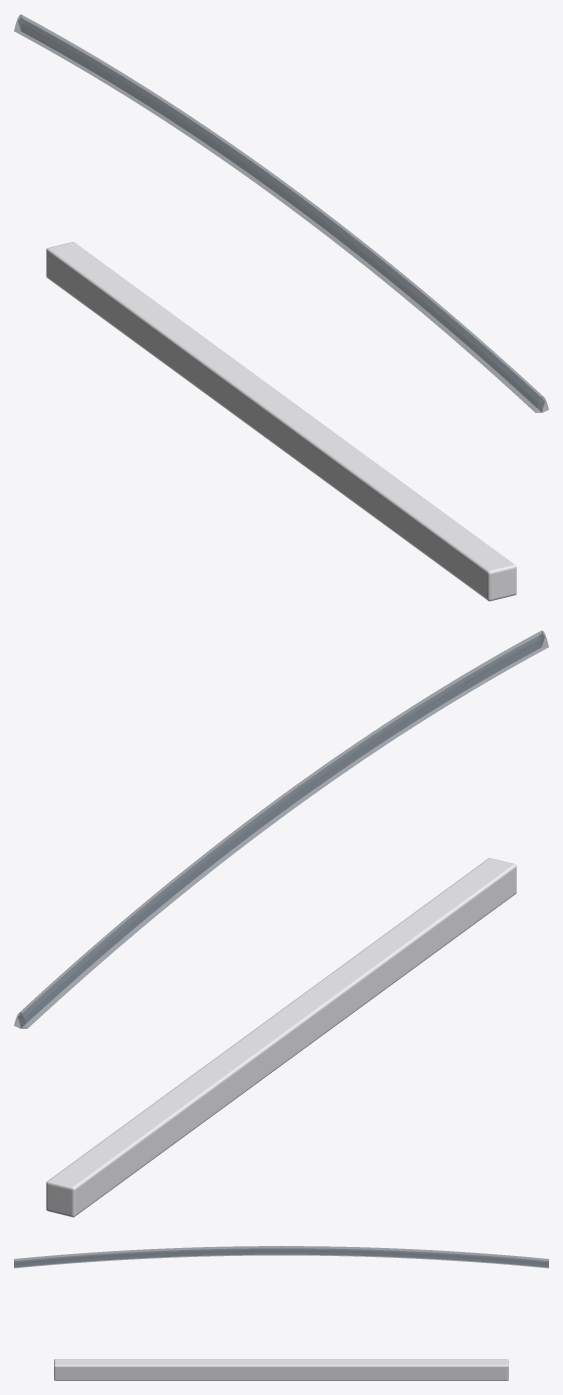
File: side_window_front_left.glb
3 renders of one model, top to bottom at view 1: azimuth 30°, elevation 25°; view 2: azimuth 150°, elevation 25°; view 3: azimuth 270°, elevation 25°, orthographic. The views are drawn at different scales.
Parts seen in each view (by area): view 1: REGULATOR_BRACKET_side_window_front_left.glb, GLASS_side_window_front_left.glb; view 2: REGULATOR_BRACKET_side_window_front_left.glb, GLASS_side_window_front_left.glb; view 3: REGULATOR_BRACKET_side_window_front_left.glb, GLASS_side_window_front_left.glb.
Part boxes in pixels (<box>): REGULATOR_BRACKET_side_window_front_left.glb: <box>46,242,516,601</box>; GLASS_side_window_front_left.glb: <box>14,14,548,412</box>; REGULATOR_BRACKET_side_window_front_left.glb: <box>46,858,516,1217</box>; GLASS_side_window_front_left.glb: <box>14,630,548,1028</box>; REGULATOR_BRACKET_side_window_front_left.glb: <box>54,1359,508,1380</box>; GLASS_side_window_front_left.glb: <box>14,1246,548,1268</box>.
Size of the model in its own units: 0.03 by 0.255 by 0.94.
